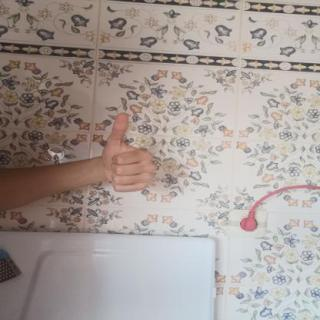ALIF: (89, 103, 163, 199)
